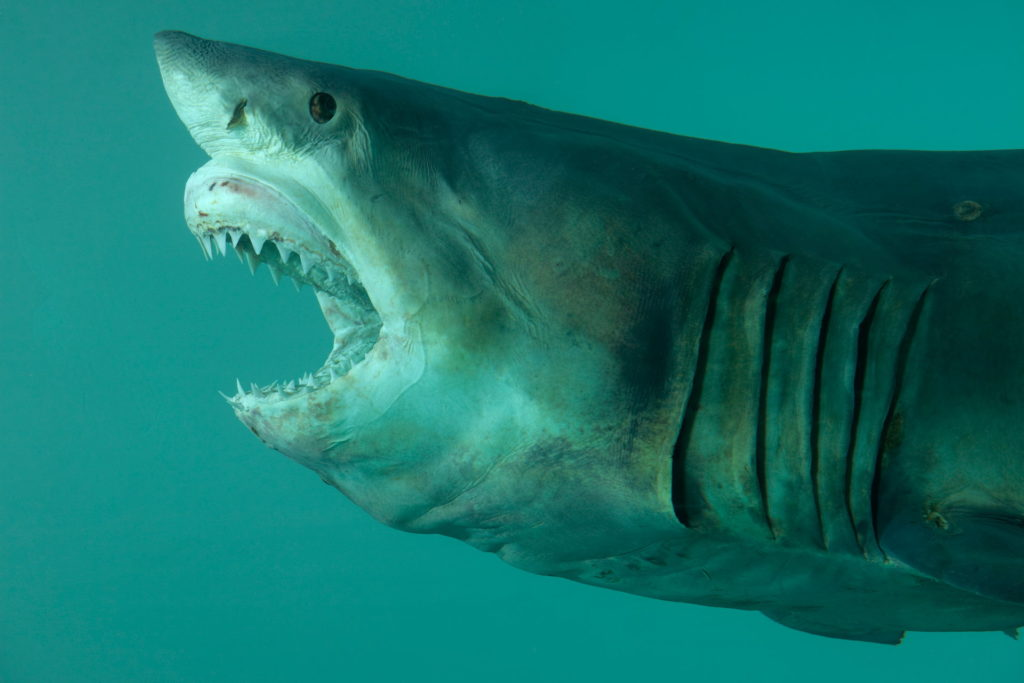shark: (138, 15, 1024, 683)
